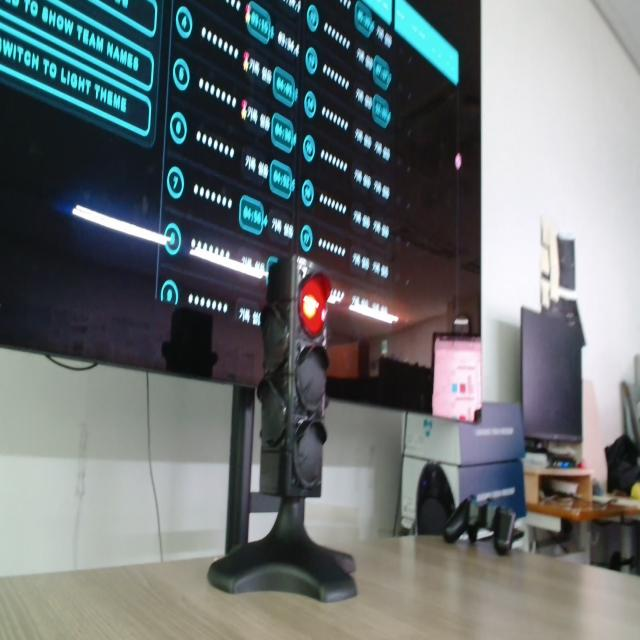red_light: (300, 274, 330, 335)
